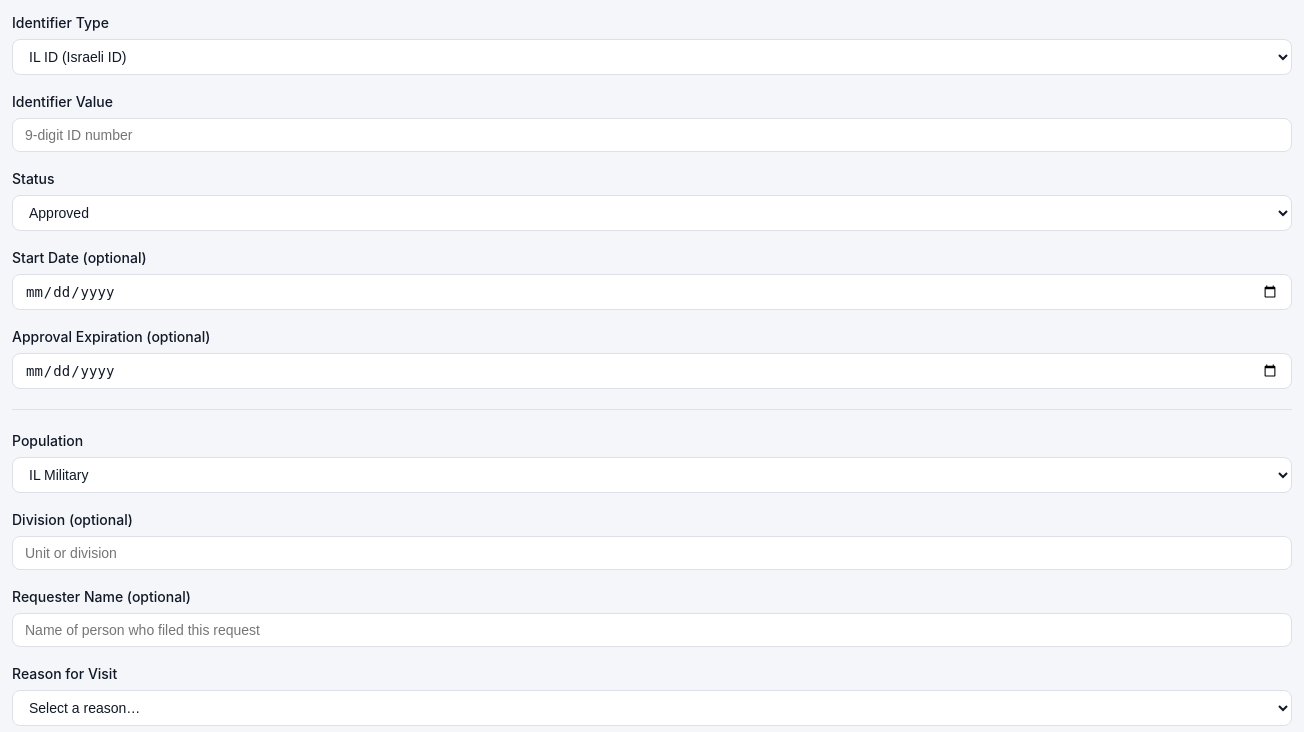
Test: PersonForm › shows escort fields when population is switched to CIVILIAN
Select "Civilian" in the dropdown labelled "Population" at (652, 475), box [12, 457, 1292, 493]
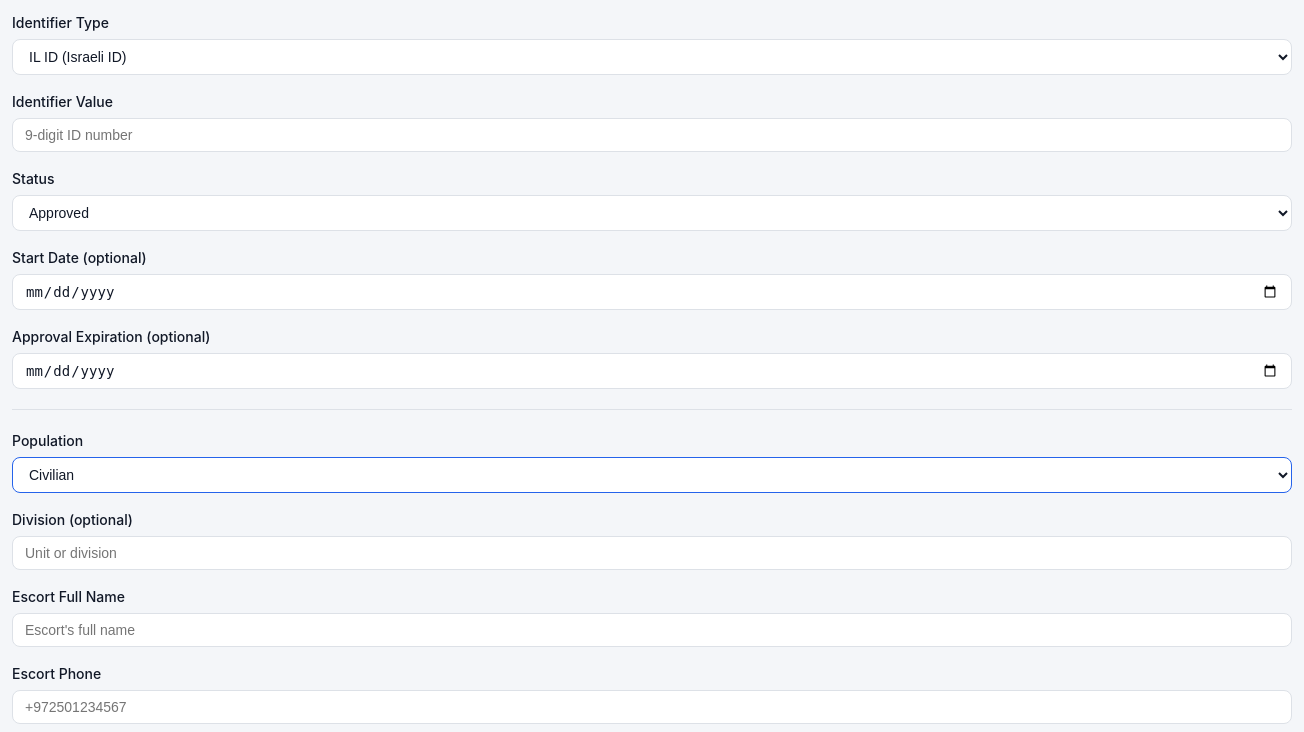
Check: the field labelled "Escort Full Name" is shown, box [12, 613, 1292, 647]
Check: the field labelled "Escort Phone" is shown, box [12, 690, 1292, 724]
